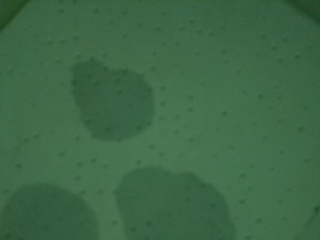Water_detected: (125, 178, 209, 240), (75, 71, 142, 133), (24, 192, 88, 240)
